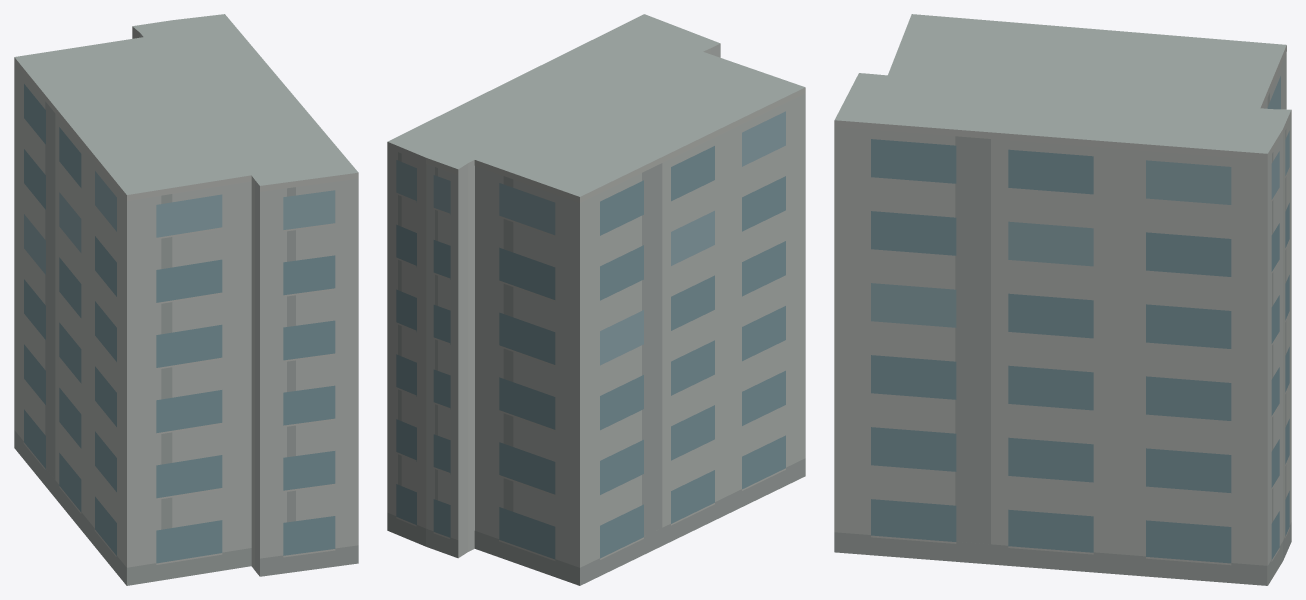
Rendered from survey-upis-32885843.glb.
The picture shows the model from 3 angles, left to right: view 1: azimuth 30°, elevation 25°; view 2: azimuth 150°, elevation 25°; view 3: azimuth 270°, elevation 25°; orthographic projection. The views are drawn at different scales.
Parts seen in each view (by area): view 1: survey-upis-32885843.tmp; view 2: survey-upis-32885843.tmp; view 3: survey-upis-32885843.tmp.
Part boxes in pixels (bbox=[...]): survey-upis-32885843.tmp: bbox=[14, 14, 358, 585]; survey-upis-32885843.tmp: bbox=[387, 14, 805, 585]; survey-upis-32885843.tmp: bbox=[834, 14, 1291, 585].
Bounding box in the file's own units: 10.97 × 15.8 × 15.16.
